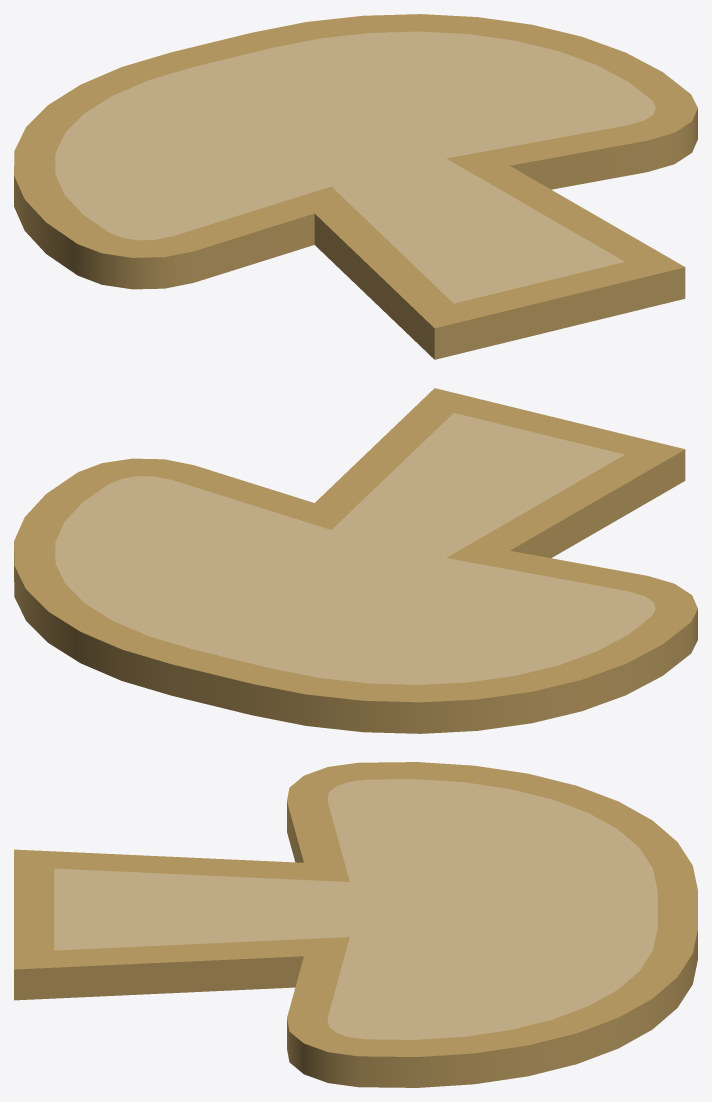
Rendered from Mushroom Slice.fbx.
The picture shows the model from 3 angles, top to bottom: view 1: azimuth 30°, elevation 25°; view 2: azimuth 150°, elevation 25°; view 3: azimuth 270°, elevation 25°; orthographic projection.
Visible parts, largest first — view 1: Mushroom Slice; view 2: Mushroom Slice; view 3: Mushroom Slice.
Boxes of the visible parts, x1,y1,x2,y2 form: Mushroom Slice: [14, 14, 697, 359]; Mushroom Slice: [14, 388, 697, 733]; Mushroom Slice: [14, 762, 697, 1087].
Size of the model in its own units: 0.2041 by 0.00996 by 0.2.
